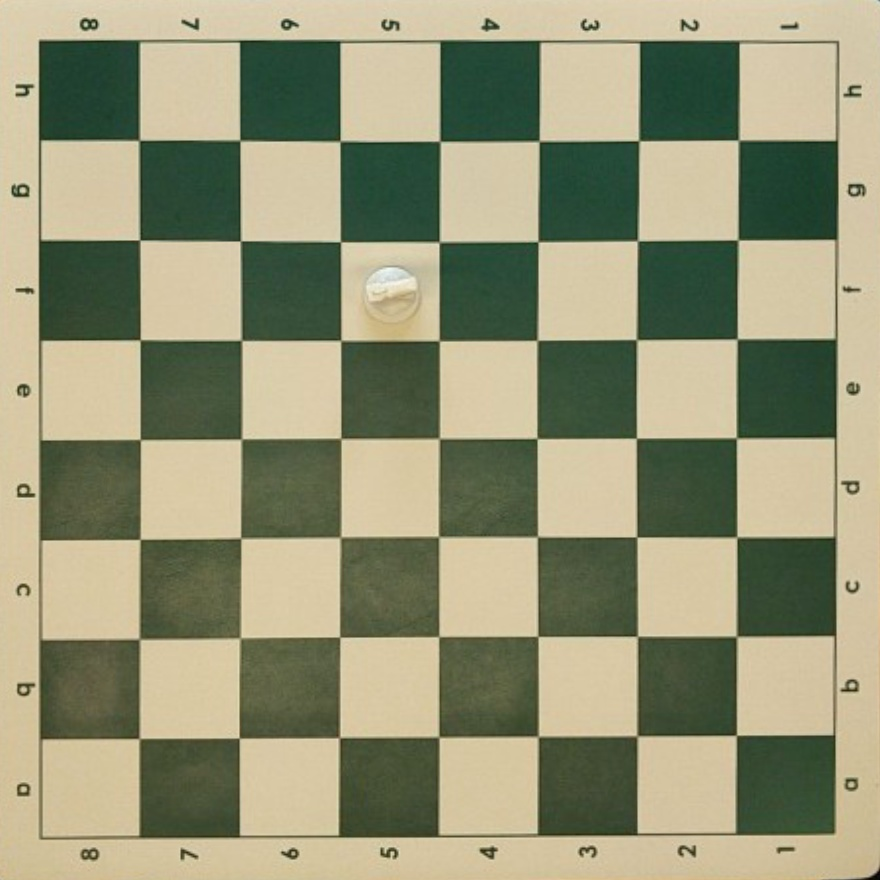white-knight: (362, 264, 421, 324)
